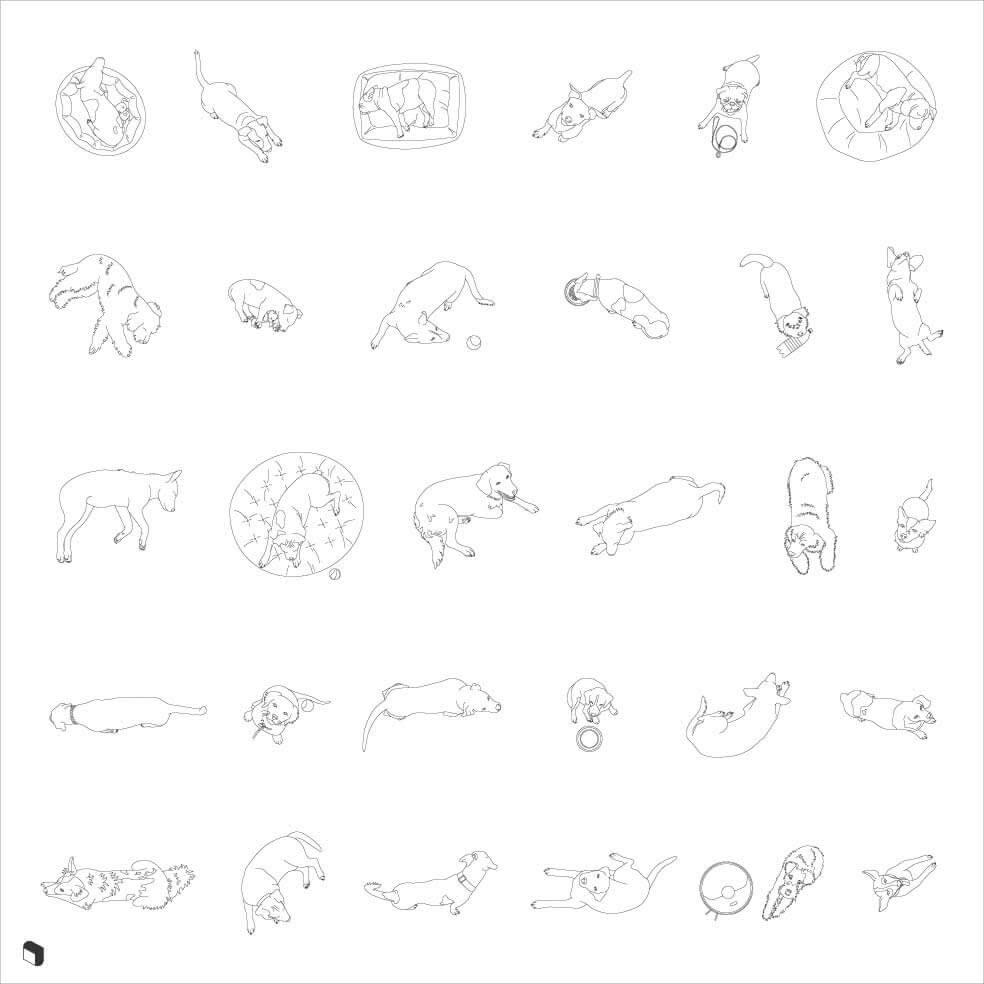adult_dog: (226, 450, 367, 580), (411, 460, 542, 573), (814, 48, 940, 165), (572, 473, 728, 560), (54, 466, 185, 567), (46, 251, 166, 361), (367, 258, 497, 354), (358, 675, 505, 755), (191, 47, 285, 166), (528, 849, 681, 918), (683, 669, 795, 761), (238, 827, 329, 938), (52, 55, 149, 159), (360, 848, 502, 919), (38, 853, 199, 914), (561, 270, 673, 342), (883, 242, 947, 368), (781, 454, 841, 579), (47, 694, 210, 738), (859, 851, 940, 915)
non-dog: (697, 859, 757, 923), (575, 725, 605, 754), (465, 333, 484, 353), (327, 566, 343, 583)
puppy-dog: (350, 61, 468, 152), (737, 250, 816, 361), (530, 68, 635, 145), (696, 51, 763, 161), (240, 682, 334, 749), (837, 687, 941, 743), (759, 842, 828, 925), (225, 276, 306, 336), (891, 475, 940, 555), (564, 675, 621, 727)
